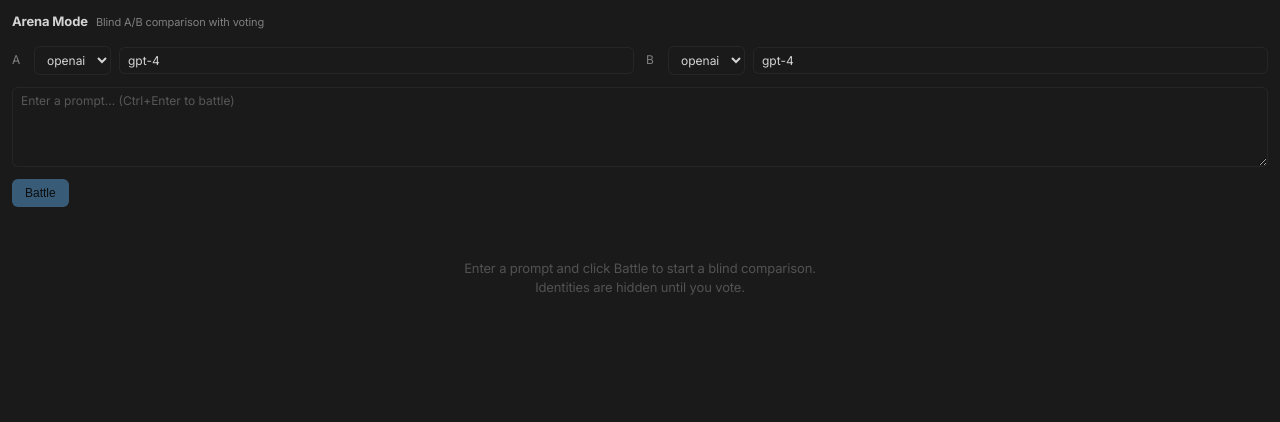
it: Given a successful battle › When the user submits a prompt, Then both blind response cards render
This screenshot has width=1280, height=422.
Type "What is 2+2?" into the text box. click: (640, 126)
box: 12,86 -> 1268,166
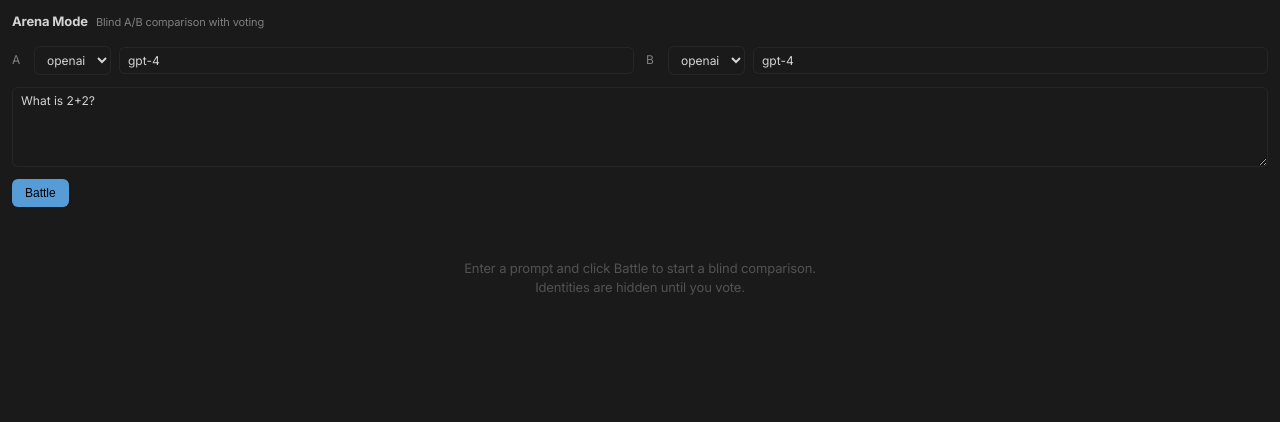
Click the button "Battle". click: (40, 192)
box: 12,178 -> 69,206
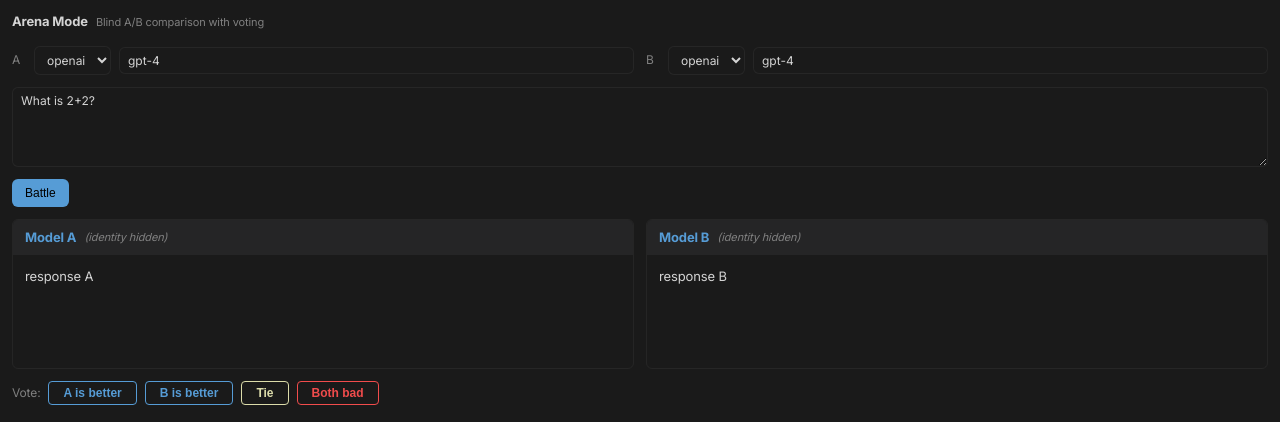
Check: the text "Model A" is shown, box 25,228 -> 76,247
Check: the text "Model B" is shown, box 659,228 -> 709,247
Check: the text "response A" is shown, box 25,268 -> 93,284
